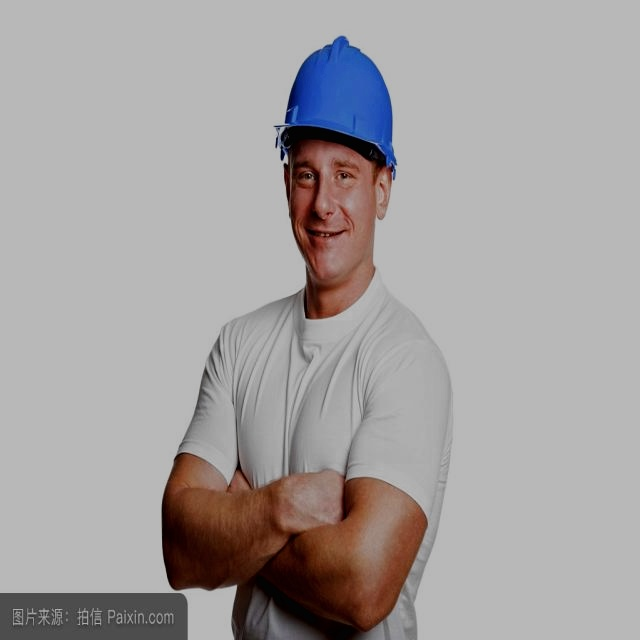Con_Casco: (278, 33, 399, 264)
Sin_Chaleco: (209, 292, 451, 633)
